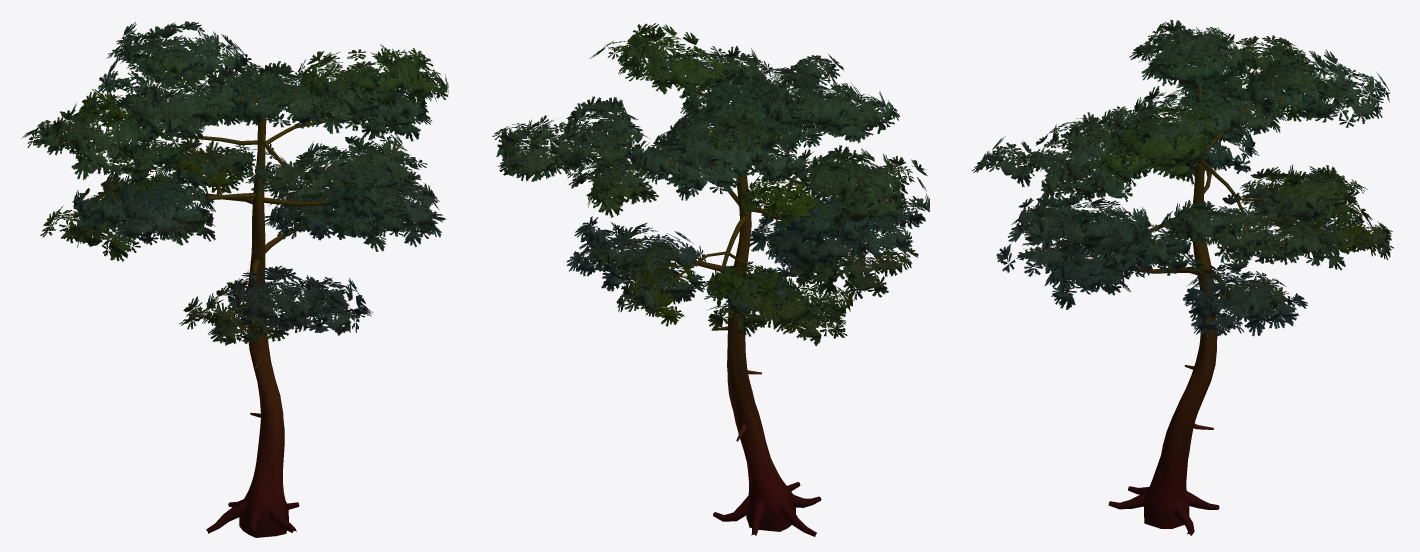
The model's file is pine_2.glb.
3 renders of one model, left to right at view 1: azimuth 30°, elevation 25°; view 2: azimuth 150°, elevation 25°; view 3: azimuth 270°, elevation 25°, orthographic.
Parts seen in each view (by area): view 1: pine_2; view 2: pine_2; view 3: pine_2.
Part boxes in pixels (x1=…): pine_2: x1=21, y1=21, x2=448, y2=537; pine_2: x1=492, y1=23, x2=929, y2=536; pine_2: x1=972, y1=19, x2=1393, y2=535.
Size of the model in its own units: 21.88 by 23 by 19.98.
2 materials, 2 textured.
